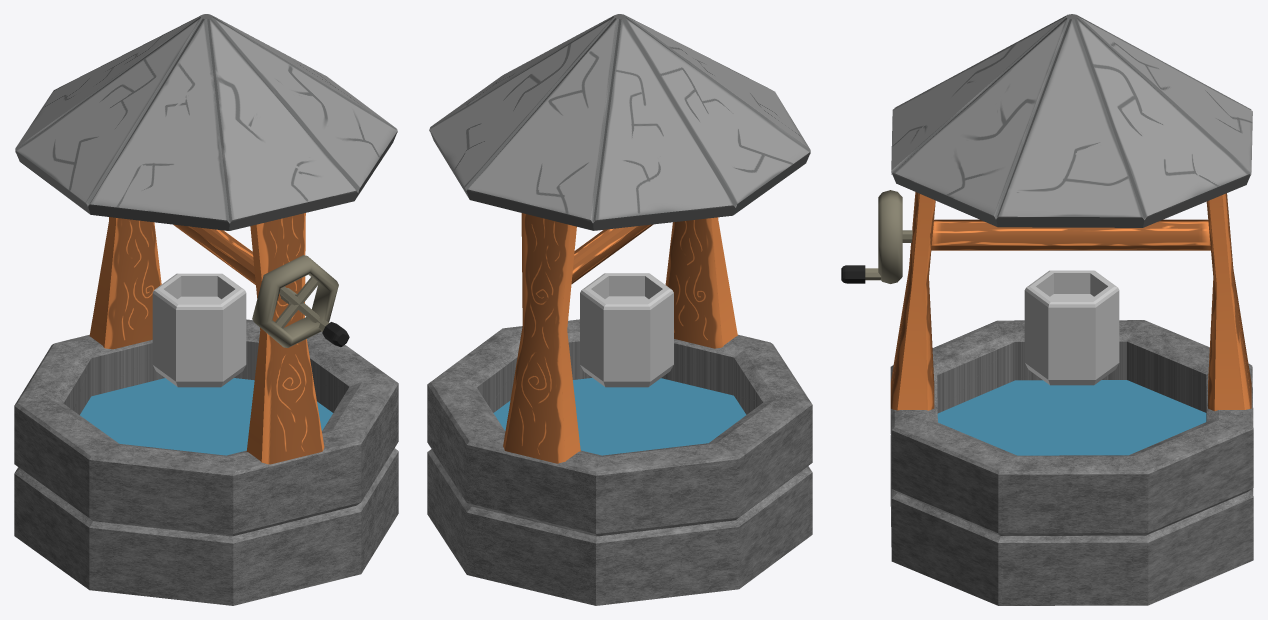
Rendered from WellTest1.fbx.
3 renders of one model, left to right at view 1: azimuth 30°, elevation 25°; view 2: azimuth 150°, elevation 25°; view 3: azimuth 270°, elevation 25°, orthographic.
Visible parts, largest first — view 1: Cylinder, Cone, Cube.002, Cylinder.001, Cube.005; view 2: Cylinder, Cone, Cube.002, Cylinder.001; view 3: Cylinder, Cone, Cube.002, Cylinder.001, Cube.005.
Boxes of the visible parts, x1,y1,x2,y2 form: Cylinder: (14,319,398,605); Cone: (15,14,397,230); Cube.002: (89,213,324,464); Cylinder.001: (152,273,246,387); Cube.005: (252,255,349,347); Cylinder: (427,319,812,605); Cone: (429,14,810,230); Cube.002: (503,213,737,463); Cylinder.001: (580,273,673,387); Cylinder: (890,320,1253,605); Cone: (891,14,1252,227); Cube.002: (890,192,1251,411); Cylinder.001: (1024,270,1119,385); Cube.005: (841,190,902,283).
Size of the model in its own units: 255 by 398 by 290.
